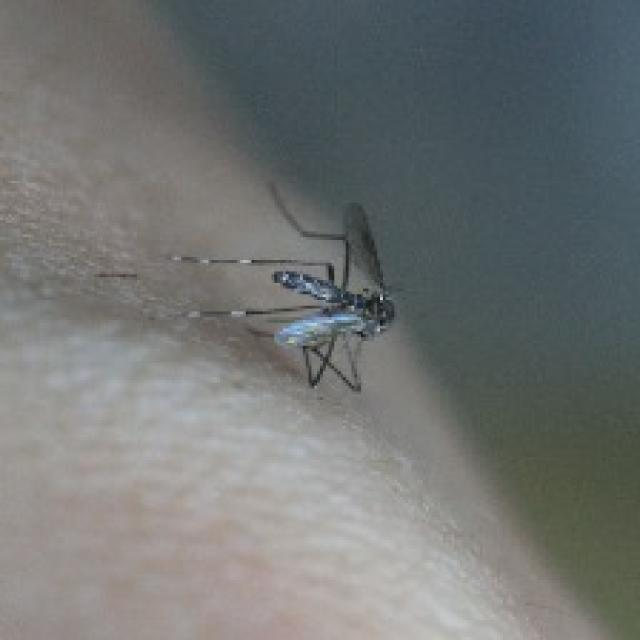aedes: (170, 173, 449, 422)
